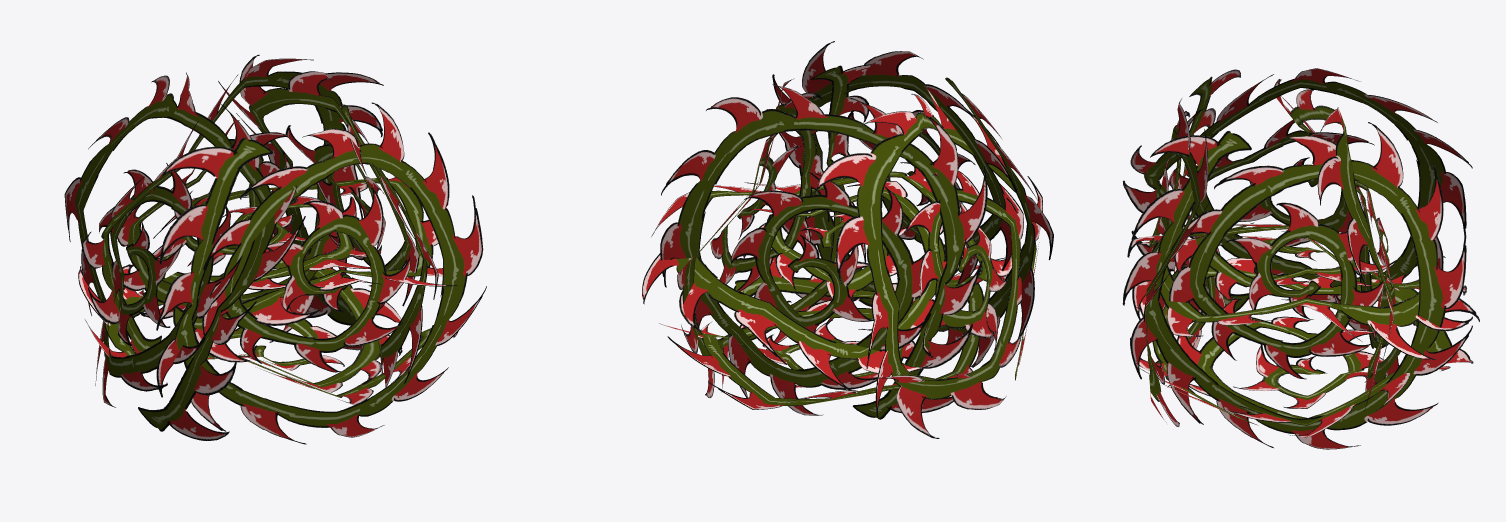
The model's file is Bramble.FBX.
The picture shows the model from 3 angles, left to right: view 1: azimuth 30°, elevation 25°; view 2: azimuth 150°, elevation 25°; view 3: azimuth 270°, elevation 25°; orthographic projection. The views are drawn at different scales.
Parts seen in each view (by area): view 1: Plane005, Plane003, Plane004, Plane002, Plane006, Plane001; view 2: Plane004, Plane003, Plane006, Plane005, Plane002, Plane001; view 3: Plane002, Plane003, Plane001, Plane006, Plane004, Plane005.
Part boxes in pixels (x1,y1,x2,y2): Plane005: (156,102,486,444); Plane003: (64,72,305,440); Plane004: (81,58,383,353); Plane002: (218,54,438,387); Plane006: (123,177,457,362); Plane001: (78,255,458,405); Plane004: (660,84,987,419); Plane003: (814,86,1042,438); Plane006: (642,162,1011,393); Plane005: (766,41,1053,367); Plane002: (677,64,871,397); Plane001: (659,239,1006,409); Plane002: (1122,122,1472,449); Plane003: (1123,68,1472,312); Plane001: (1130,256,1479,437); Plane006: (1127,219,1472,359); Plane004: (1274,79,1400,411); Plane005: (1145,69,1240,426).
Bounding box in the file's own units: 77.6 × 76.18 × 74.46.
